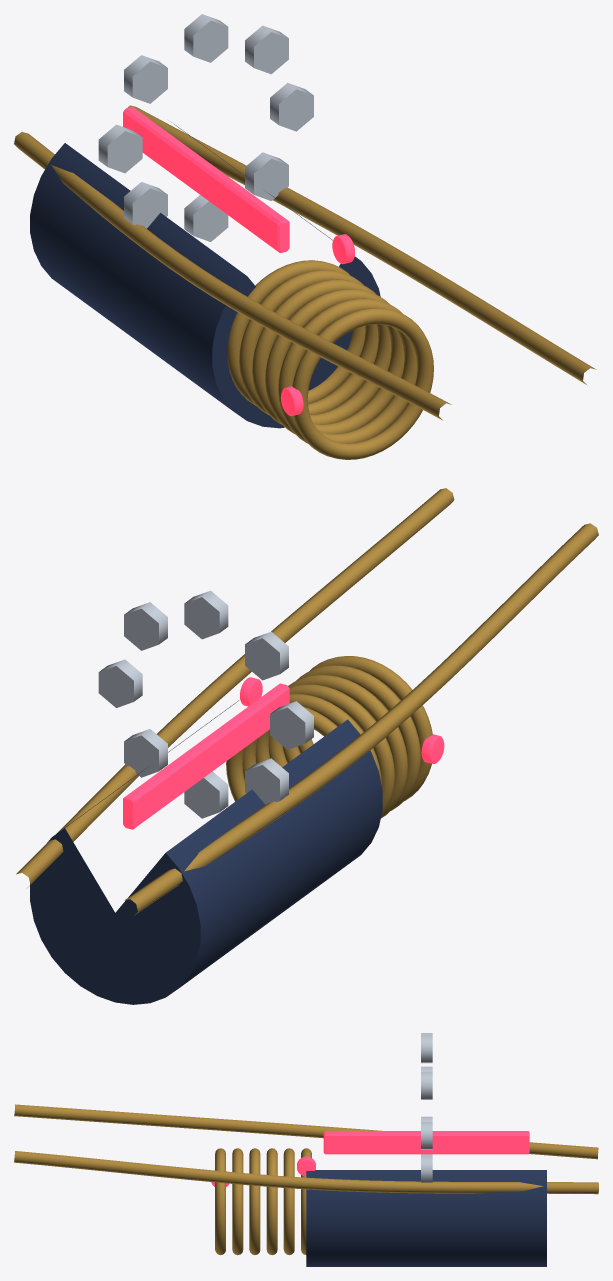
File: tower_filament_ramp_s4.glb
3 renders of one model, top to bottom at view 1: azimuth 30°, elevation 25°; view 2: azimuth 150°, elevation 25°; view 3: azimuth 270°, elevation 25°, orthographic. The views are drawn at different scales.
Visible parts, largest first — view 1: filament_heat_shroud, filament_shroud_bolts, filament_heat_pipe_r, filament_heat_pipe_l, filament_shroud_glow, filament_coil_sleeve0, filament_coil_sleeve2, filament_coil_sleeve3, filament_coil_sleeve1, filament_coil_sleeve4, filament_coil_sleeve5; view 2: filament_heat_shroud, filament_shroud_bolts, filament_heat_pipe_r, filament_heat_pipe_l, filament_shroud_glow, filament_coil_sleeve2, filament_coil_sleeve1, filament_coil_sleeve3, filament_coil_sleeve0, filament_coil_sleeve4, filament_coil_sleeve5; view 3: filament_heat_shroud, filament_heat_pipe_l, filament_heat_pipe_r, filament_shroud_glow, filament_shroud_bolts, filament_coil_sleeve4, filament_coil_sleeve1, filament_coil_sleeve2, filament_coil_sleeve3, filament_coil_sleeve0, filament_coil_sleeve5.
Part boxes in pixels (left/top/right/bottom): filament_heat_shroud: left=30, top=122, right=380, bottom=428; filament_shroud_bolts: left=98, top=14, right=313, bottom=241; filament_heat_pipe_r: left=14, top=132, right=451, bottom=420; filament_heat_pipe_l: left=127, top=105, right=596, bottom=384; filament_shroud_glow: left=123, top=107, right=289, bottom=252; filament_coil_sleeve0: left=292, top=308, right=433, bottom=459; filament_coil_sleeve2: left=265, top=289, right=404, bottom=433; filament_coil_sleeve3: left=252, top=279, right=391, bottom=424; filament_coil_sleeve1: left=278, top=298, right=417, bottom=443; filament_coil_sleeve4: left=239, top=270, right=378, bottom=415; filament_coil_sleeve5: left=227, top=260, right=365, bottom=405; filament_heat_shroud: left=30, top=700, right=382, bottom=1004; filament_shroud_bolts: left=98, top=590, right=313, bottom=818; filament_heat_pipe_r: left=124, top=523, right=598, bottom=915; filament_heat_pipe_l: left=16, top=488, right=454, bottom=887; filament_shroud_glow: left=123, top=683, right=289, bottom=829; filament_coil_sleeve2: left=268, top=675, right=407, bottom=818; filament_coil_sleeve1: left=282, top=665, right=420, bottom=810; filament_coil_sleeve3: left=255, top=684, right=394, bottom=815; filament_coil_sleeve0: left=298, top=656, right=432, bottom=800; filament_coil_sleeve4: left=242, top=694, right=381, bottom=785; filament_coil_sleeve5: left=226, top=706, right=337, bottom=801; filament_heat_shroud: left=306, top=1170, right=546, bottom=1266; filament_heat_pipe_l: left=14, top=1151, right=598, bottom=1194; filament_heat_pipe_r: left=14, top=1104, right=598, bottom=1159; filament_shroud_glow: left=323, top=1131, right=529, bottom=1154; filament_shroud_bolts: left=421, top=1033, right=432, bottom=1182; filament_coil_sleeve4: left=283, top=1148, right=294, bottom=1255; filament_coil_sleeve1: left=232, top=1148, right=243, bottom=1255; filament_coil_sleeve2: left=249, top=1148, right=260, bottom=1254; filament_coil_sleeve3: left=266, top=1148, right=277, bottom=1255; filament_coil_sleeve0: left=215, top=1148, right=225, bottom=1255; filament_coil_sleeve5: left=301, top=1148, right=311, bottom=1254.
Bounding box in the file's own units: 0.4579 × 0.725 × 1.7.
